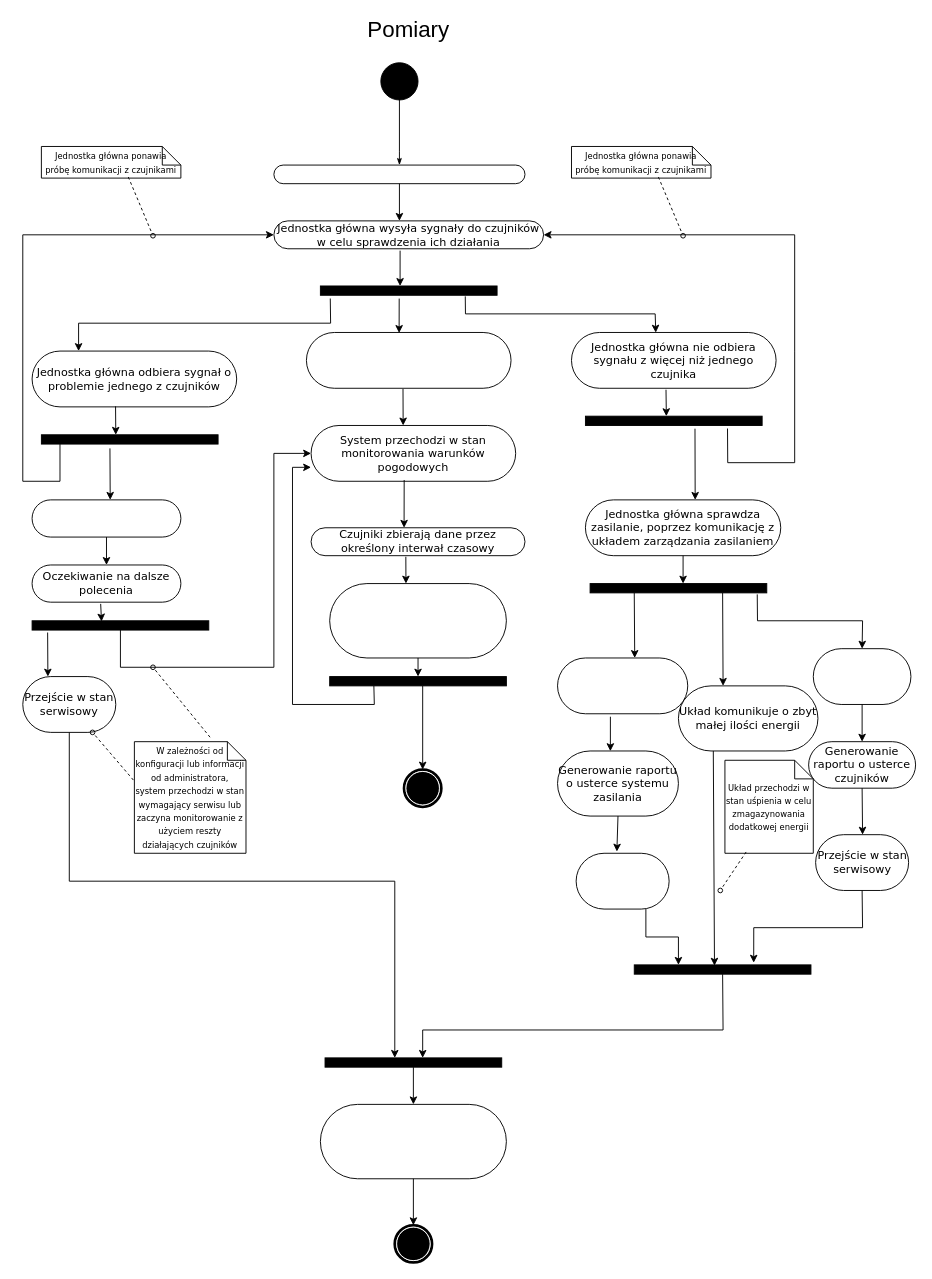
The diagram is 932 pixels wide and 1279 high, and some of its shapes have lost their labels. Each missing label, with the box of its shape:
Dane są przekazywane do jednostki głównej w celu dalszej analizy: (329, 583, 506, 658)
Generowanie raportu o usterce czujnika: (31, 499, 181, 537)
Inicjalizacja wykonywania pomiarów: (273, 164, 525, 184)
Jednostka główna odbiera sygnał o prawidłowym działaniu wszystkich czujników: (306, 332, 511, 388)
Przejście w stan alarmowy: (575, 852, 669, 909)
System przechodzi w stan uśpienia: (319, 1103, 506, 1179)
Układ zarządzania zasilaniem ma awarię: (557, 657, 688, 714)
Zasilanie działa poprawnie: (812, 648, 911, 704)
